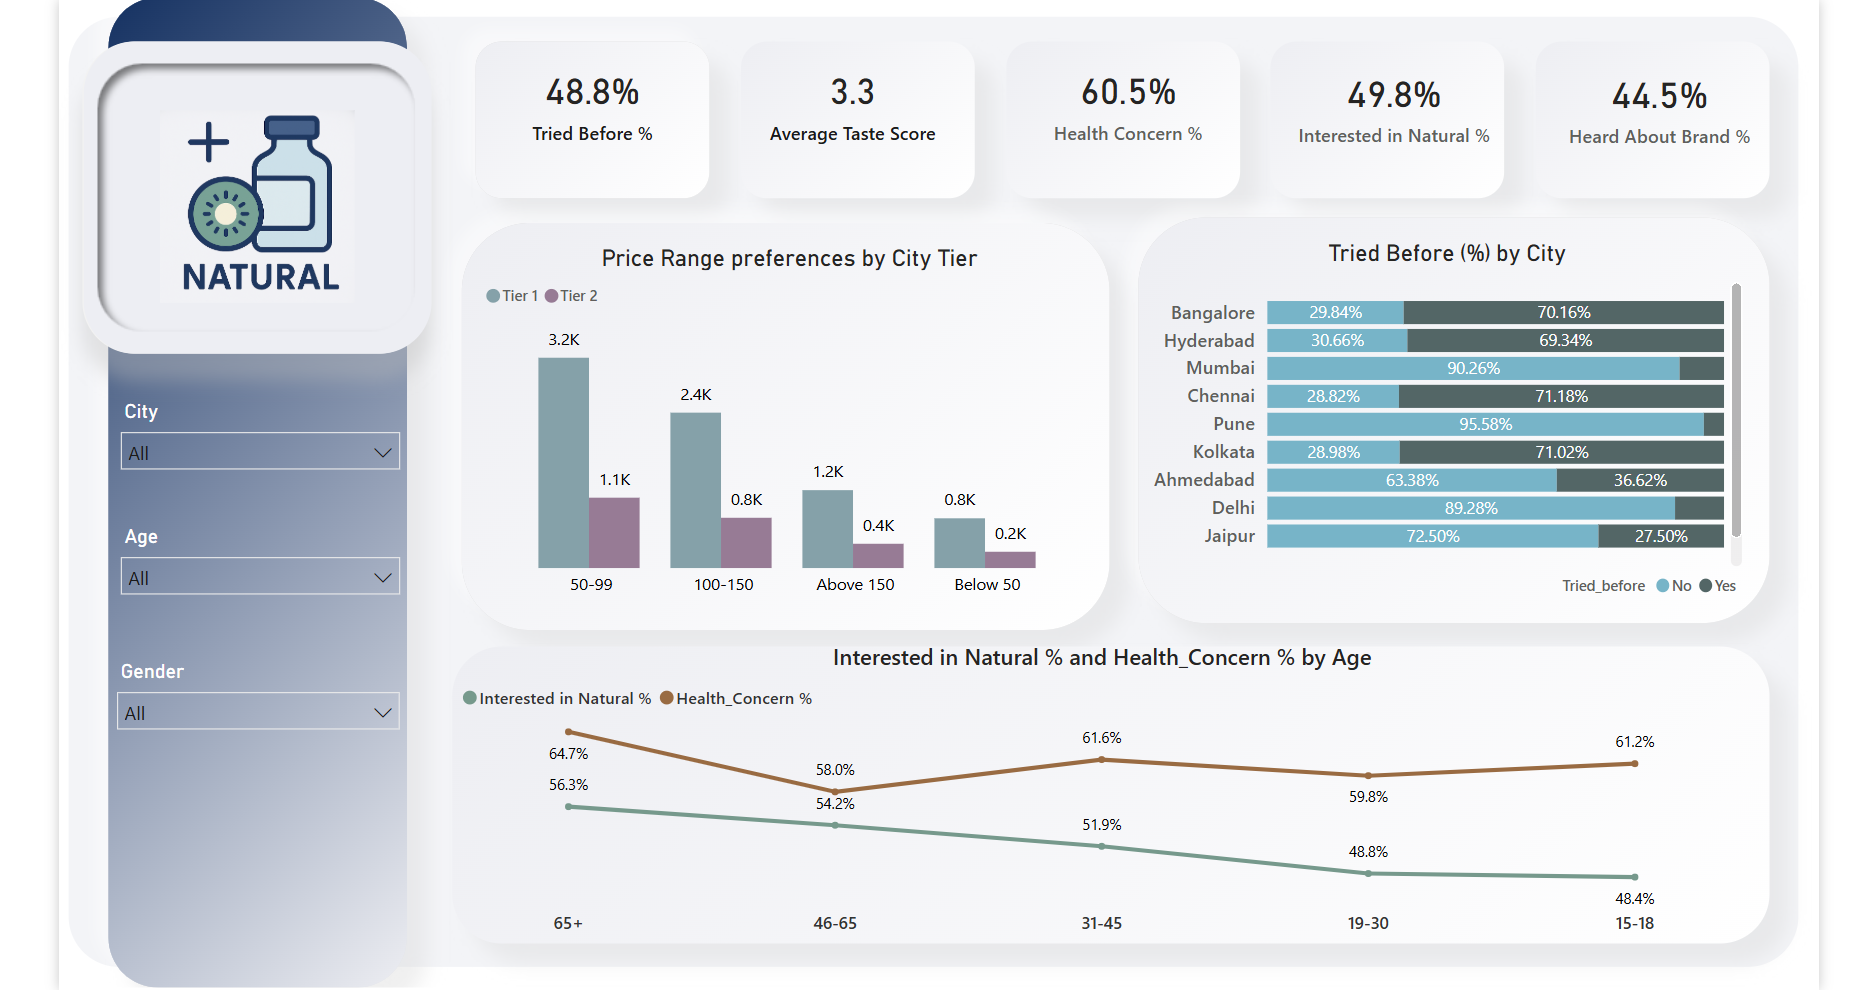

This screenshot's page, from the dashboard's own definition file:
{"tool":"powerbi","page":{"name":"Page 1","canvas":[1280,720],"ordinal":0},"visuals":[{"type":"card","fields":{"Values":["fact_survey_responses.Tried Before %"]},"box":[287.7,24.5,200.5,99.6],"z":0},{"type":"card","fields":{"Values":["fact_survey_responses.Average Score"]},"box":[488.2,24.5,178.7,99.6],"z":1000},{"type":"card","fields":{"Values":["fact_survey_responses.Health Concern %"]},"box":[692.8,24.5,170.5,99.6],"z":2000},{"type":"card","fields":{"Values":["fact_survey_responses.Interested in Natural %"]},"box":[876.9,25.9,188.2,99.6],"z":3000},{"type":"hundredPercentStackedBarChart","title":"Tried Before (%) by City","fields":{"Category":["dim_cities.City"],"Series":["fact_survey_responses.Tried_before"],"Y":["CountNonNull(fact_survey_responses.Respondent_ID)"]},"box":[789.6,173.2,439.1,270],"z":4000},{"type":"lineChart","fields":{"Category":["dim_repondents.Age"],"Y":["fact_survey_responses.Interested in Natural %","fact_survey_responses.Health_Concern %"]},"box":[287.7,466.4,941,223.7],"z":5000},{"type":"card","fields":{"Values":["fact_survey_responses.Heard About Brand %"]},"box":[1074.6,27.3,180,99.6],"z":6000},{"type":"clusteredColumnChart","title":"Price Range preferences by City Tier","fields":{"Category":["fact_survey_responses.Price_range"],"Series":["dim_cities.Tier"],"Y":["CountNonNull(fact_survey_responses.Respondent_ID)"]},"box":[305.5,177.3,451.4,265.9],"z":6001},{"type":"slicer","fields":{"Values":["dim_repondents.Gender"]},"box":[31.4,474.6,226.4,84.6],"z":6002},{"type":"slicer","fields":{"Values":["dim_cities.City"]},"box":[34.1,285,223.7,75],"z":6003},{"type":"slicer","fields":{"Values":["dim_repondents.Age"]},"box":[34.1,376.4,223.7,83.2],"z":6004},{"type":"image","box":[31.4,75,225,150],"z":6005}]}

Visuals, with their boxes on the page's 1280x720 design canvas (x1, y1, x2, y2). These are canvas units, not pixel positions in the 1875x990 screenshot, which may show the page scaled, cropped or inside an application window:
card - fact_survey_responses.Tried Before %: [288,24,488,124]
card - fact_survey_responses.Average Score: [488,24,667,124]
card - fact_survey_responses.Health Concern %: [693,24,863,124]
card - fact_survey_responses.Interested in Natural %: [877,26,1065,126]
"Tried Before (%) by City" hundredPercentStackedBarChart: [790,173,1229,443]
lineChart - dim_repondents.Age x fact_survey_responses.Interested in Natural %: [288,466,1229,690]
card - fact_survey_responses.Heard About Brand %: [1075,27,1255,127]
"Price Range preferences by City Tier" clusteredColumnChart: [306,177,757,443]
slicer - dim_repondents.Gender: [31,475,258,559]
slicer - dim_cities.City: [34,285,258,360]
slicer - dim_repondents.Age: [34,376,258,460]
image: [31,75,256,225]
